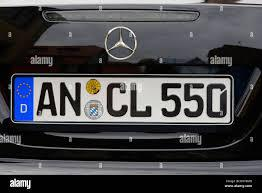0: (205, 82, 226, 120)
5: (160, 81, 184, 119), (183, 81, 205, 118)
A: (35, 81, 57, 118)
C: (104, 82, 127, 118)
L: (128, 81, 153, 118)
N: (58, 82, 84, 117)
